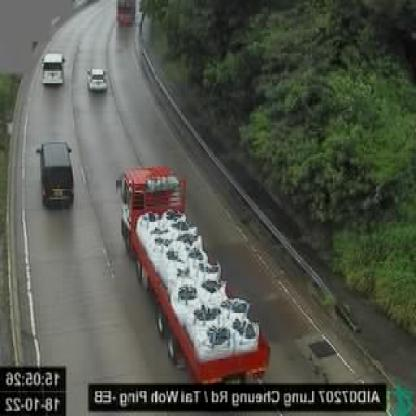Car: (35, 140, 77, 212), (40, 51, 68, 90), (86, 67, 108, 97), (113, 0, 136, 26)
Truck: (115, 164, 270, 384)
